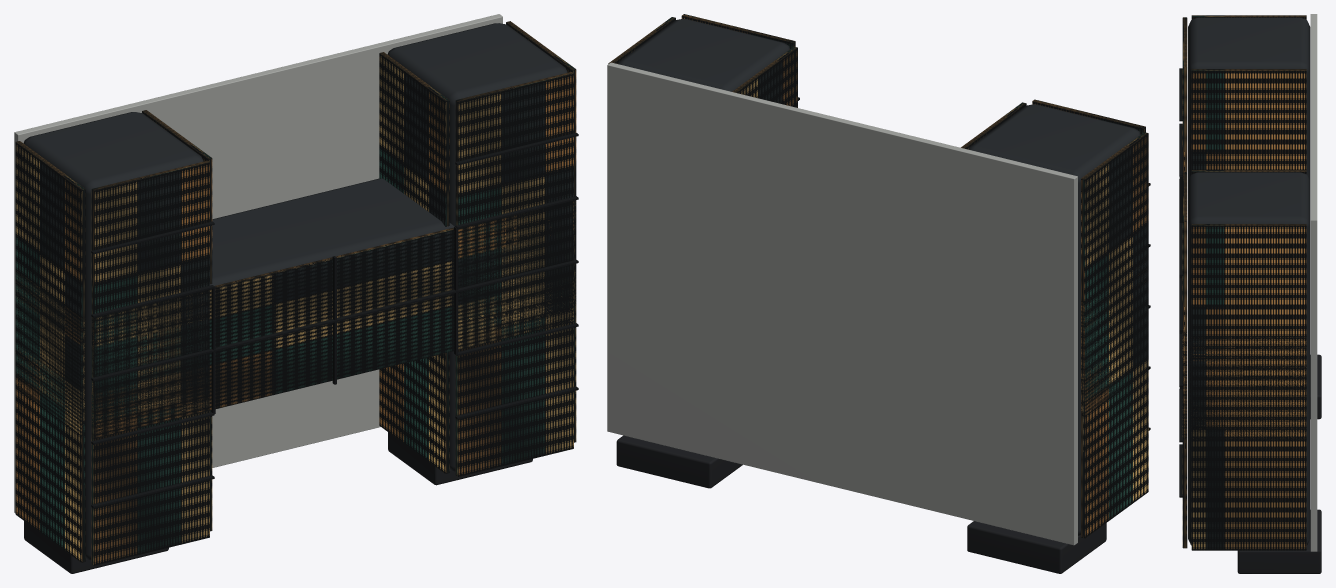
File: signage-h.glb
3 views of the same model, side by side, from view 1: azimuth 30°, elevation 25°; view 2: azimuth 150°, elevation 25°; view 3: azimuth 270°, elevation 25° (orthographic). The views are drawn at different scales.
Parts seen in each view (by area): view 1: H center bridge box front LED, H left vertical box front LED, H right vertical box front LED, H rear grey face, H left vertical box left LED return, H right vertical box left LED return, H center bridge box body, H left vertical box body, H right vertical box body, H center bridge box left LED return, H bridge horizontal seam 1, H right vertical box right LED return (+3 smaller); view 2: H rear grey face, H left vertical box left LED return, H left vertical box body, H right vertical box body, H low leveling foot, H low leveling foot.001, H right vertical box left LED return, H center bridge box left LED return; view 3: H right vertical box right LED return, H left vertical box right LED return, H right vertical box body, H left vertical box body, H rear grey face, H low leveling foot.001, H right vertical box front LED, H center bridge box right LED return, H left vertical box front LED, H center bridge box front LED, H low leveling foot, H left vertical box left LED return (+7 smaller).
Part boxes in pixels (<box>): H center bridge box front LED: <box>91,201,573,438</box>; H left vertical box front LED: <box>91,160,209,565</box>; H right vertical box front LED: <box>455,72,573,476</box>; H rear grey face: <box>14,14,502,513</box>; H left vertical box left LED return: <box>15,141,85,562</box>; H right vertical box left LED return: <box>379,52,449,473</box>; H center bridge box body: <box>85,178,454,428</box>; H left vertical box body: <box>23,112,203,560</box>; H right vertical box body: <box>387,23,567,471</box>; H center bridge box left LED return: <box>15,271,85,435</box>; H bridge horizontal seam 1: <box>92,260,578,380</box>; H right vertical box right LED return: <box>506,21,576,442</box>; H rear grey face: <box>607,62,1077,545</box>; H left vertical box left LED return: <box>1081,132,1148,538</box>; H left vertical box body: <box>968,104,1140,535</box>; H right vertical box body: <box>618,19,789,91</box>; H low leveling foot: <box>967,521,1106,573</box>; H low leveling foot.001: <box>616,435,742,488</box>; H right vertical box left LED return: <box>732,46,797,107</box>; H center bridge box left LED return: <box>1081,257,1147,415</box>; H right vertical box right LED return: <box>1191,224,1306,550</box>; H left vertical box right LED return: <box>1191,69,1306,169</box>; H right vertical box body: <box>1188,172,1310,545</box>; H left vertical box body: <box>1188,17,1310,180</box>; H rear grey face: <box>1310,14,1317,551</box>; H low leveling foot.001: <box>1237,509,1321,573</box>; H right vertical box front LED: <box>1182,172,1187,548</box>; H center bridge box right LED return: <box>1191,336,1306,439</box>; H left vertical box front LED: <box>1182,17,1187,172</box>; H center bridge box front LED: <box>1182,332,1187,437</box>; H low leveling foot: <box>1310,354,1321,419</box>; H left vertical box left LED return: <box>1191,15,1306,19</box>.
Bounding box in the file's own units: 1.31 × 1.04 × 0.373.
5 materials, 1 textured.
